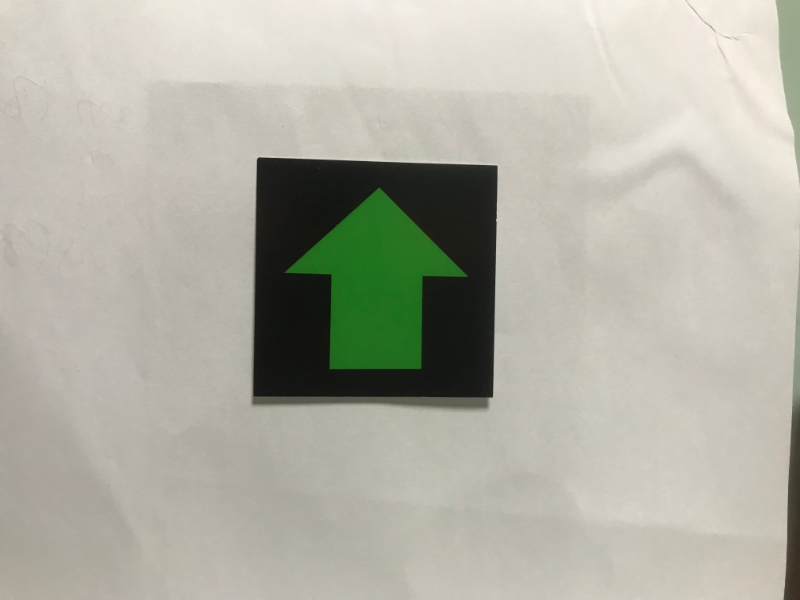RA-3: (263, 168, 488, 390)
